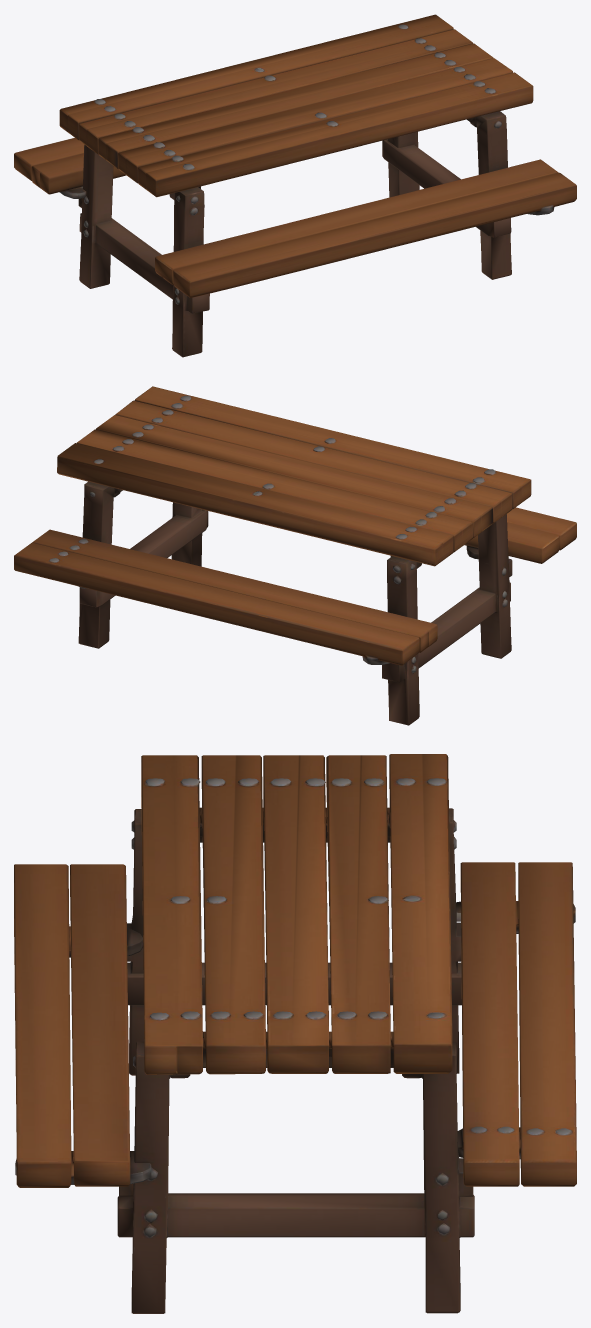
File: picnic-table-tripo-original.glb
3 views of the same model, one above another, from view 1: azimuth 30°, elevation 25°; view 2: azimuth 150°, elevation 25°; view 3: azimuth 270°, elevation 25° (orthographic). The views are drawn at different scales.
Visible parts, largest first — view 1: tripo_node_41922669-dd09-4d8c-9d66-e49c1fcac9f2; view 2: tripo_node_41922669-dd09-4d8c-9d66-e49c1fcac9f2; view 3: tripo_node_41922669-dd09-4d8c-9d66-e49c1fcac9f2.
Part boxes in pixels (x1,y1,x2,y2): tripo_node_41922669-dd09-4d8c-9d66-e49c1fcac9f2: (14,14,576,357); tripo_node_41922669-dd09-4d8c-9d66-e49c1fcac9f2: (14,386,576,725); tripo_node_41922669-dd09-4d8c-9d66-e49c1fcac9f2: (14,754,576,1313).
Size of the model in its own units: 1 by 0.4501 by 0.7867.
1 material, 1 textured.
